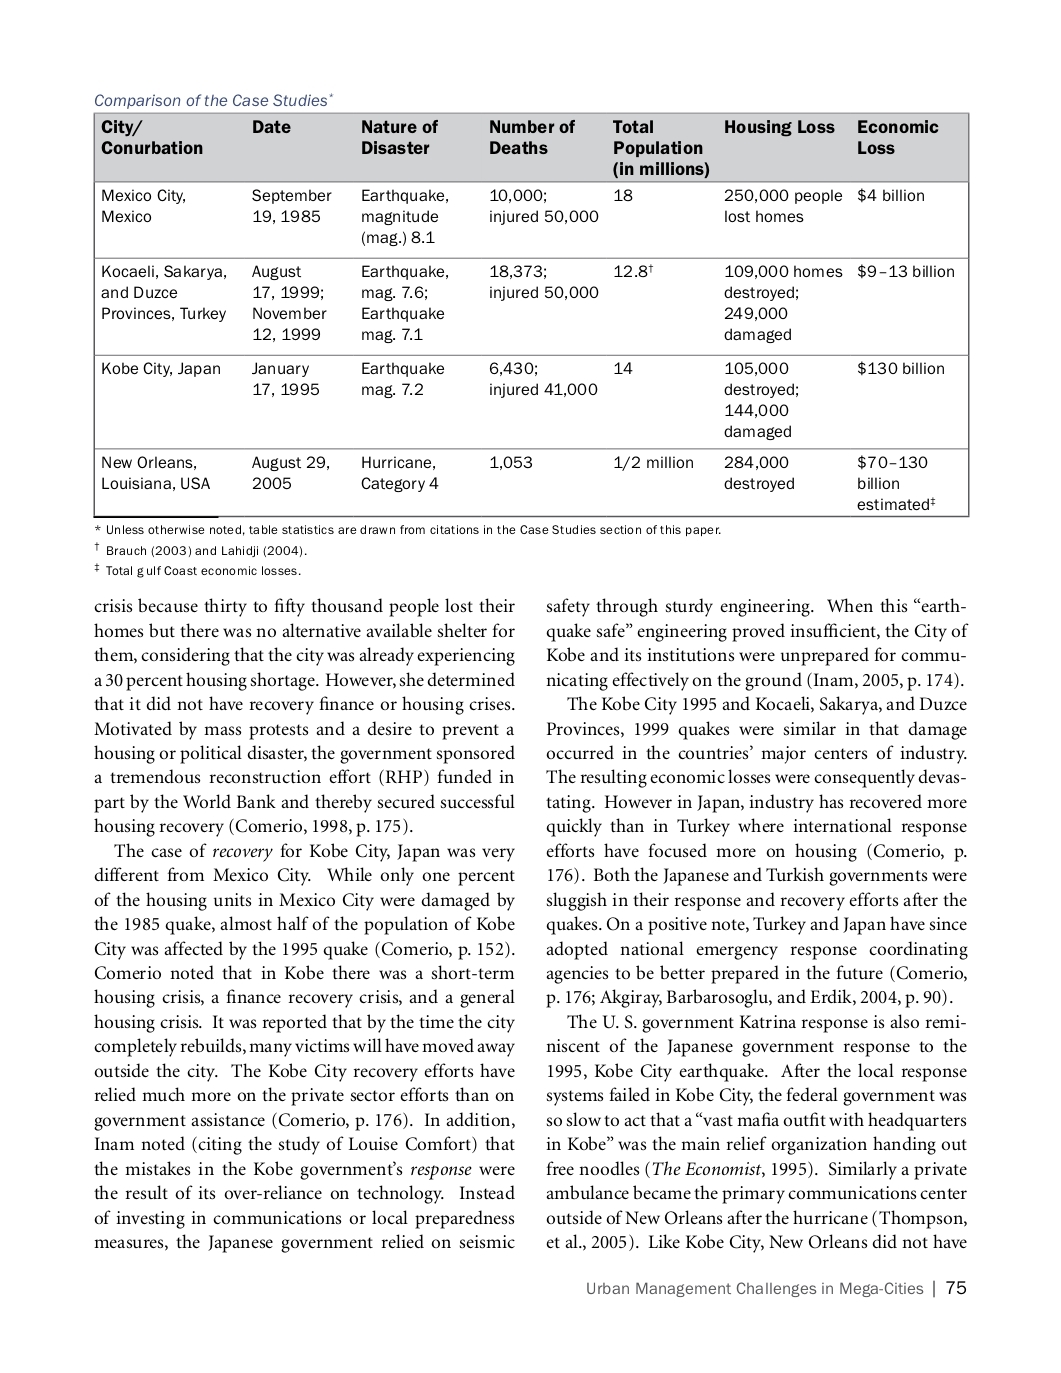Table: (93, 111, 968, 517)
